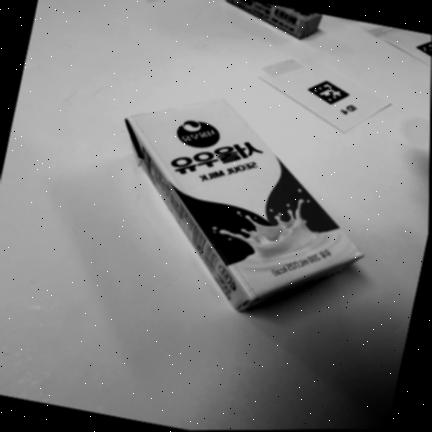milk_green: (126, 99, 364, 311)
